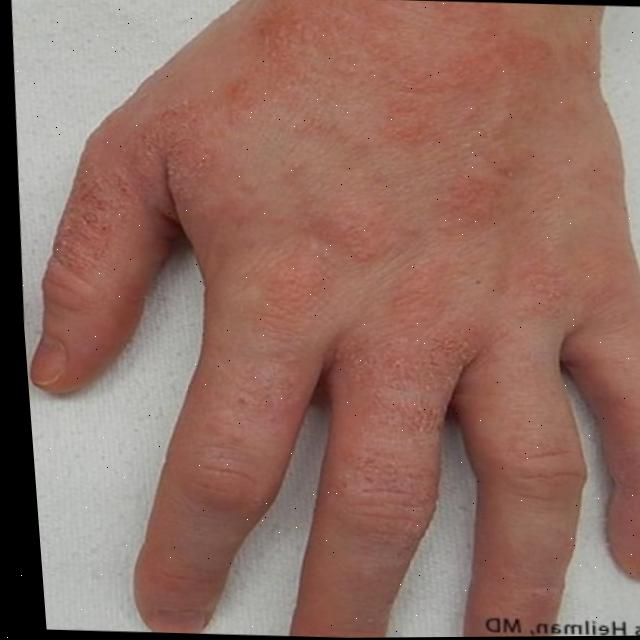Eczema: (34, 9, 636, 493)
